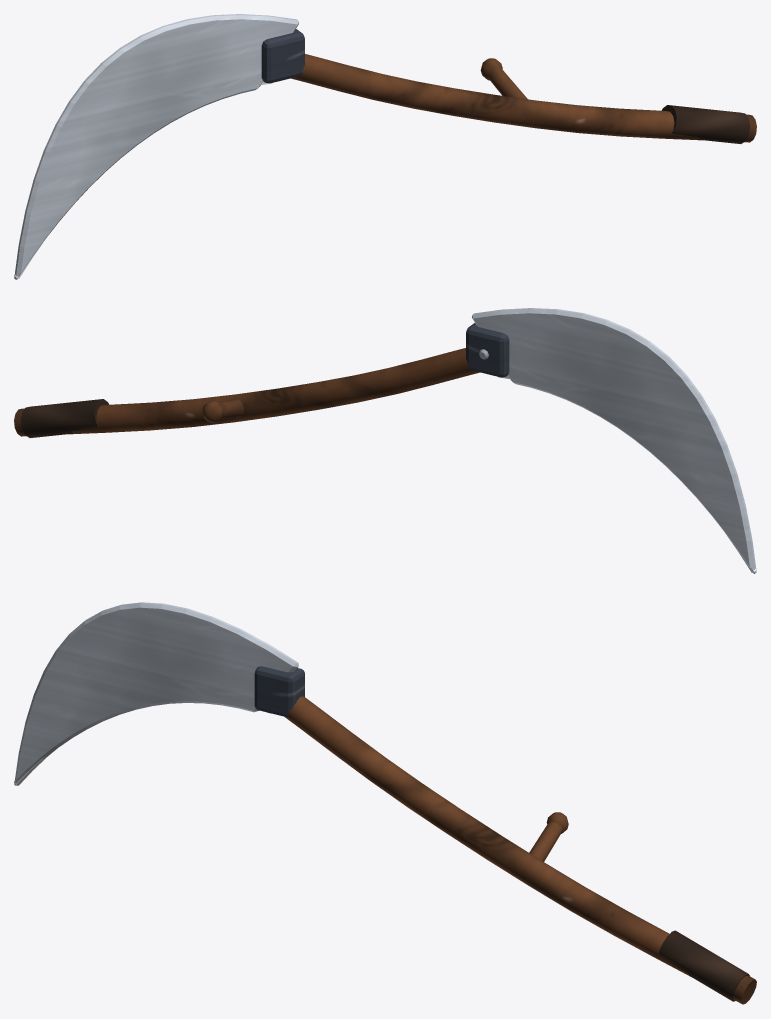
File: Scythe.fbx
3 views of the same model, one above another, from view 1: azimuth 30°, elevation 25°; view 2: azimuth 150°, elevation 25°; view 3: azimuth 330°, elevation 25° (orthographic).
Visible parts, largest first — view 1: Scythe; view 2: Scythe; view 3: Scythe.
Part boxes in pixels (x1,y1,x2,y2): Scythe: [14, 14, 756, 279]; Scythe: [14, 308, 756, 573]; Scythe: [14, 602, 756, 1004].
Bounding box in the file's own units: 1.81 × 0.6045 × 0.198.
6 materials, 6 textured.
